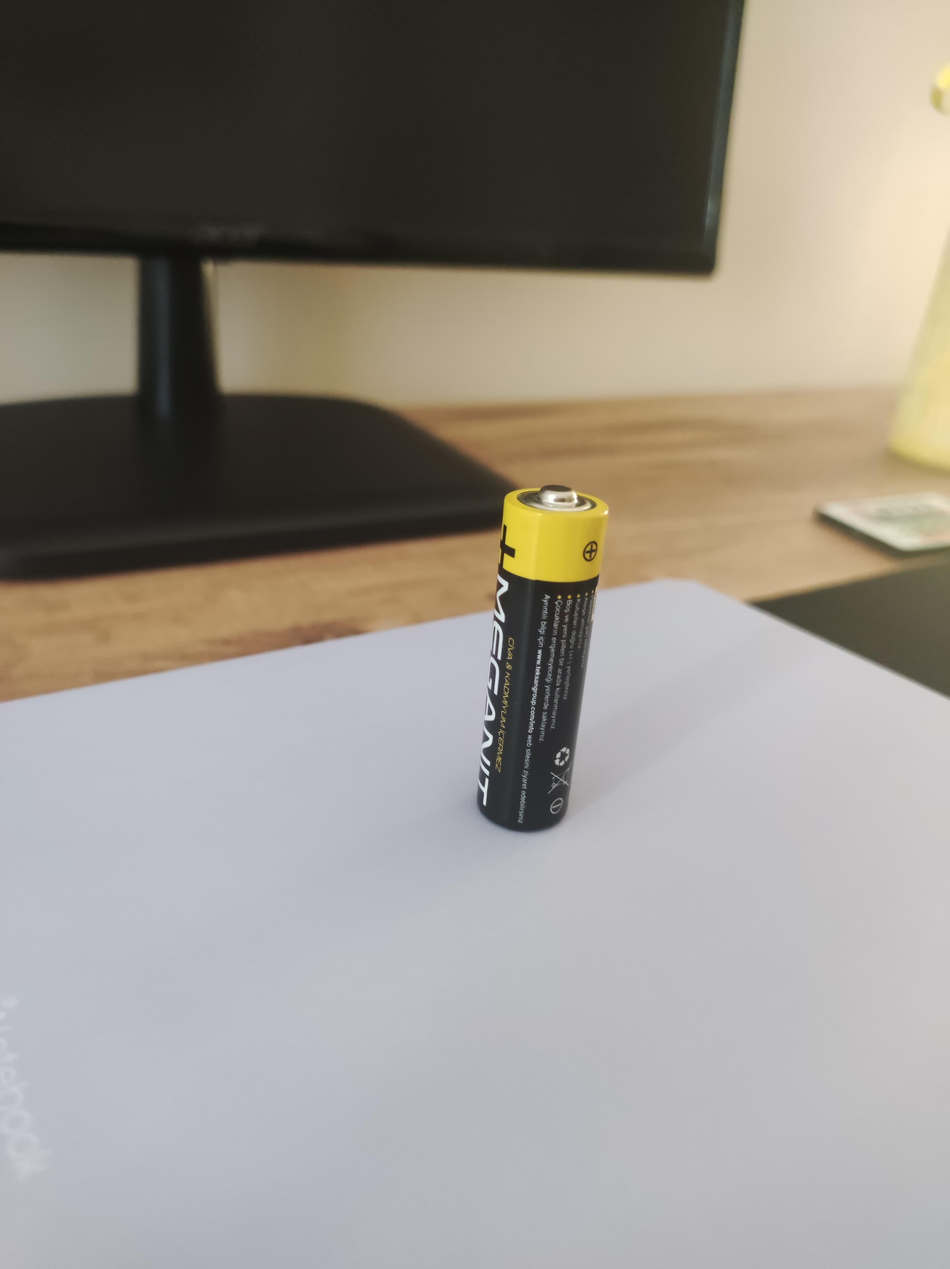AA: (472, 481, 614, 839)
